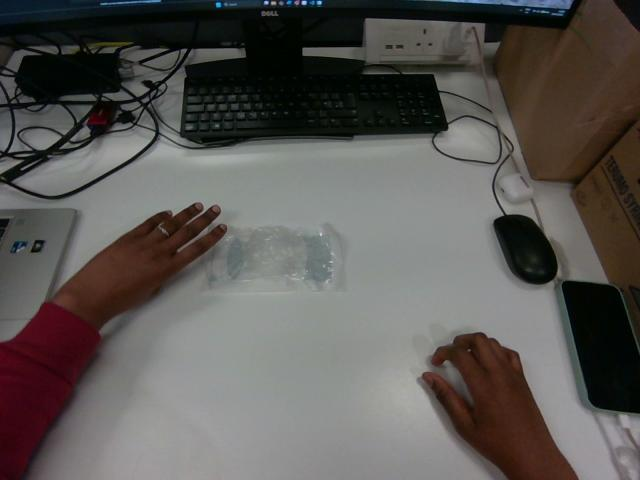gallipot: (207, 224, 343, 291)
